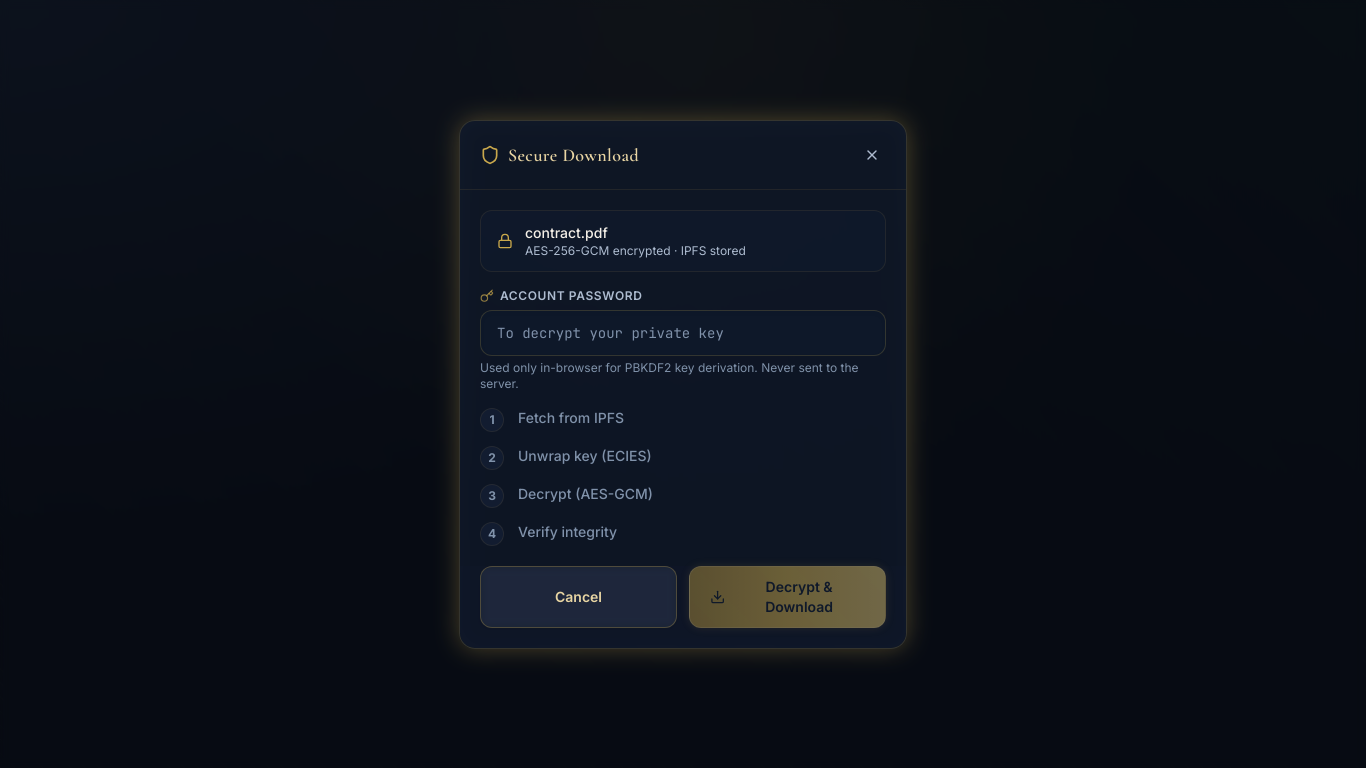
Test case: SecureDownloadModal › on decryption failure: shows a decryption-specific message (not integrity)
Type "pw" into the password field with placeholder "To decrypt your private key" at coordinates (683, 332), box [480,310,886,356]
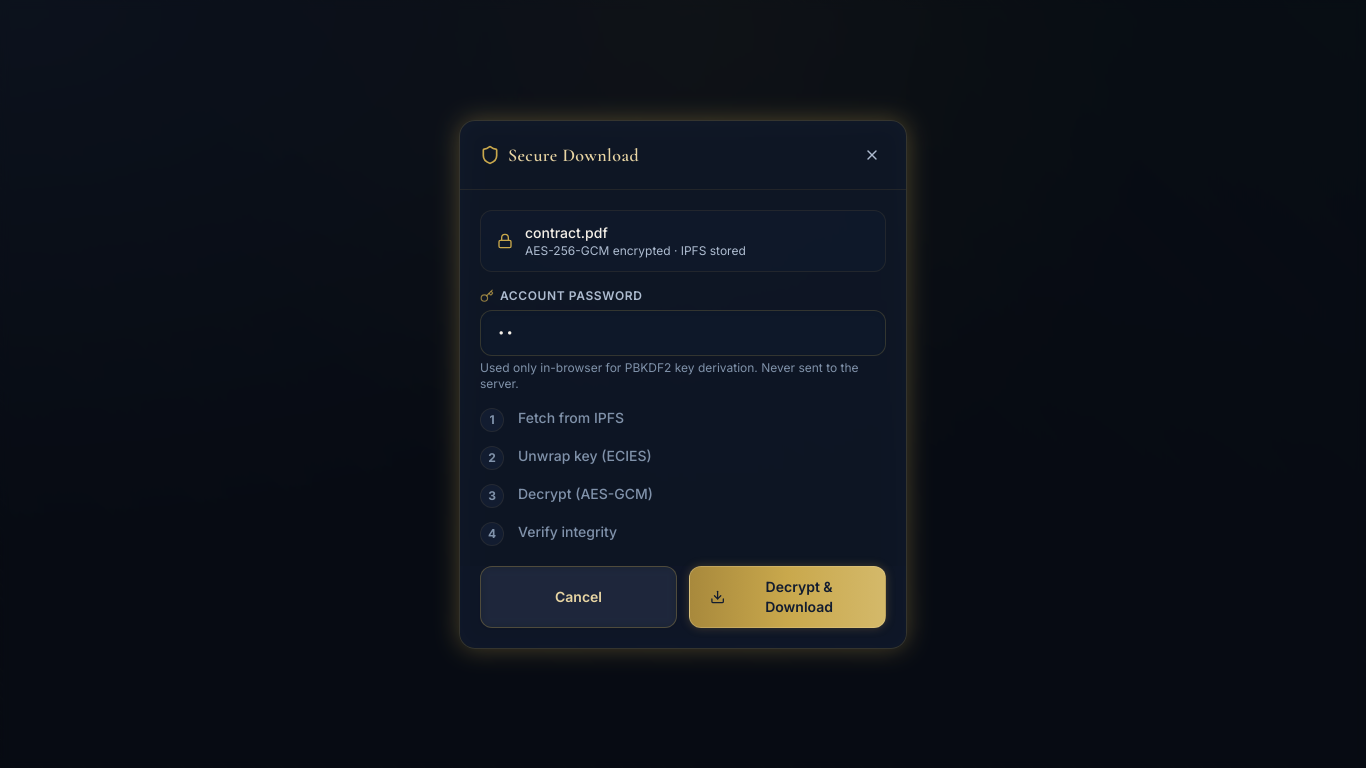
Click the button "Decrypt & Download" at coordinates (788, 596), box [689,566,886,628]
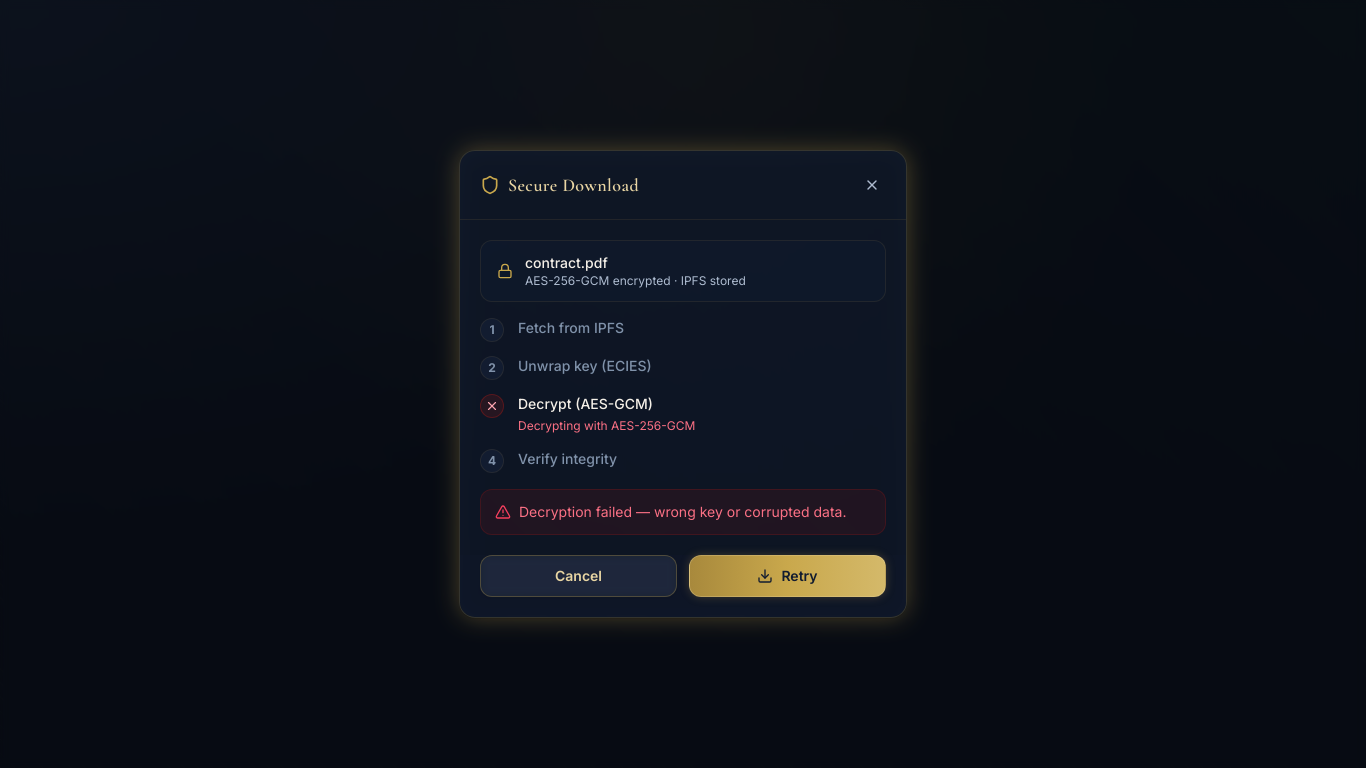
Expected: the text "Decryption failed — wrong key or corrupted data." is shown, [519,502,846,522]
